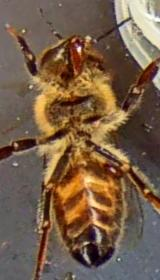varroa_mite: (96, 156, 132, 187)
